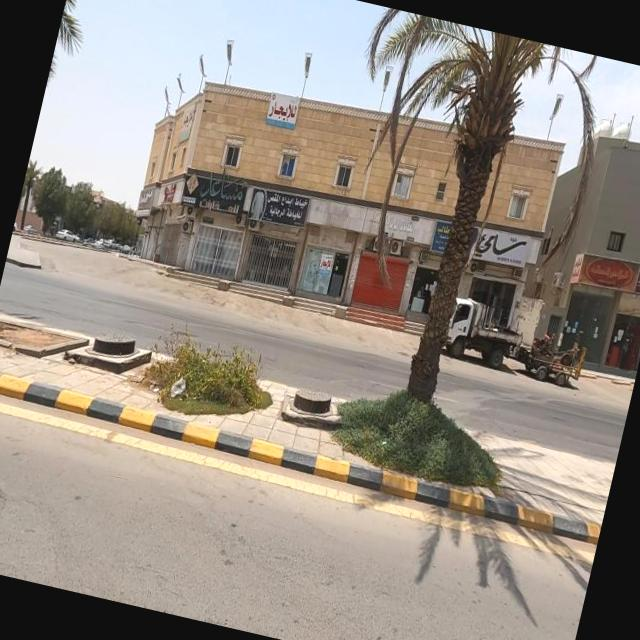debris: (270, 160, 410, 272), (128, 329, 228, 454)
